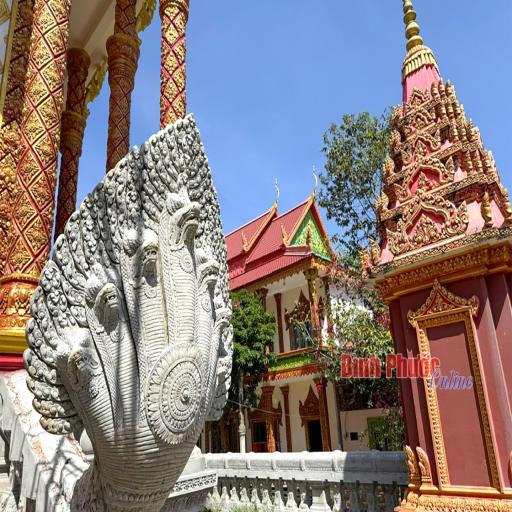hoa: (9, 239, 29, 272), (33, 173, 52, 205), (27, 216, 46, 248), (23, 112, 44, 140), (20, 153, 38, 183), (40, 129, 55, 163), (14, 198, 32, 224), (42, 99, 59, 126), (44, 60, 60, 88), (36, 6, 54, 30), (30, 76, 48, 100), (50, 0, 68, 22), (175, 38, 190, 64), (163, 48, 179, 72), (32, 40, 46, 66), (174, 64, 188, 88), (173, 94, 187, 118), (50, 28, 62, 54), (164, 28, 180, 46), (163, 104, 176, 126), (165, 78, 177, 99), (168, 0, 179, 20), (110, 128, 122, 145), (177, 14, 187, 34), (120, 118, 130, 136), (121, 76, 132, 92), (111, 107, 122, 123), (119, 142, 129, 159), (70, 74, 80, 91), (66, 197, 74, 217), (117, 14, 127, 29), (120, 99, 130, 114), (126, 5, 135, 21), (113, 86, 123, 100), (78, 68, 88, 82), (75, 103, 84, 118), (68, 160, 76, 176), (64, 148, 72, 164), (76, 85, 84, 100), (66, 182, 75, 195), (125, 24, 134, 36), (61, 166, 70, 178), (111, 154, 119, 166), (68, 95, 76, 107), (119, 0, 129, 8)
ran: (59, 187, 234, 512)
